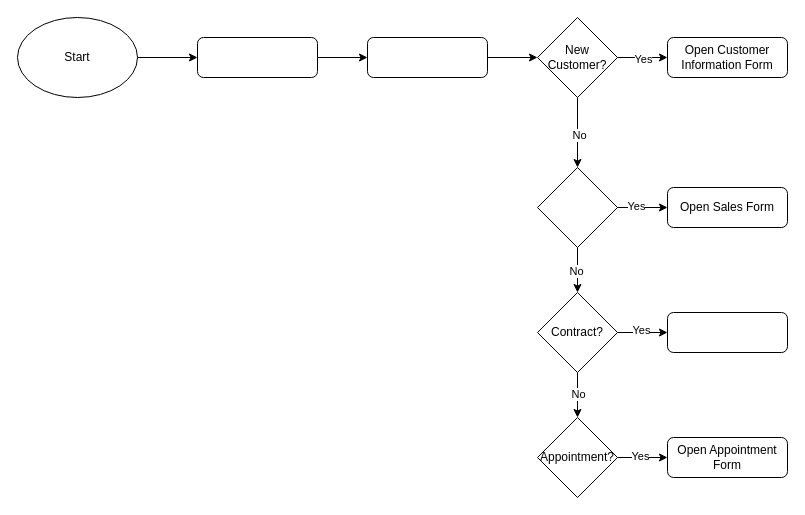
This 805x515 diagram has some shape labels left out. The centre of each missing label's shape, as x and y in pixels:
Admin create a user account from Admin form: [257,57]
Open Contract Form: [727,332]
Regular sale?: [577,207]
User login: [427,57]
